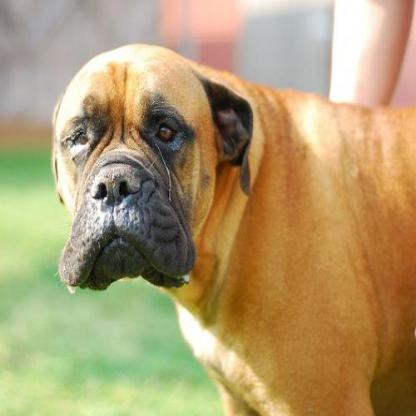bull_mastiff: (50, 41, 414, 414)
